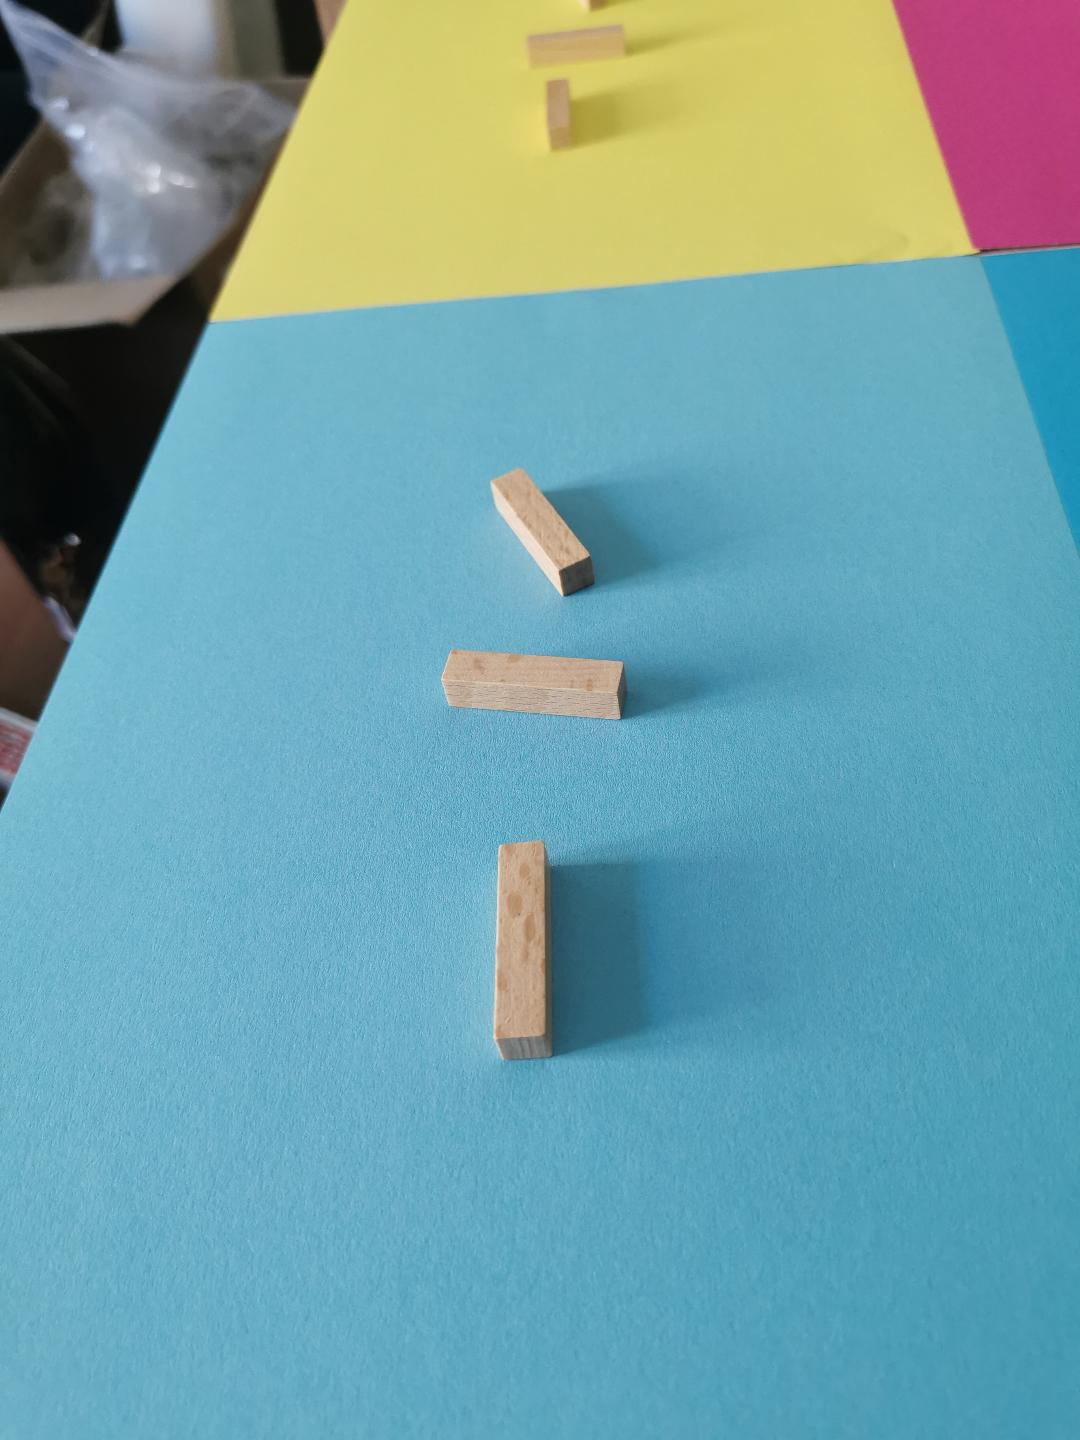jenga: (441, 650, 627, 720), (495, 841, 554, 1060), (492, 469, 593, 596), (526, 25, 624, 68), (546, 78, 574, 149)
